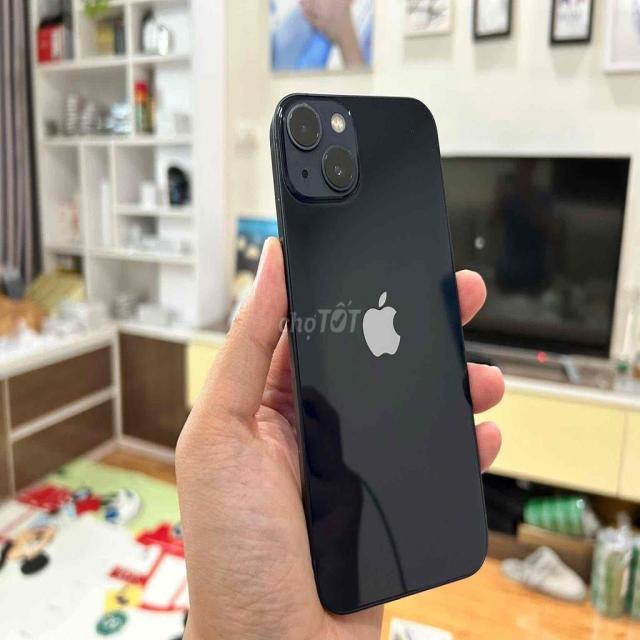gen_12_13: (266, 84, 492, 621)
